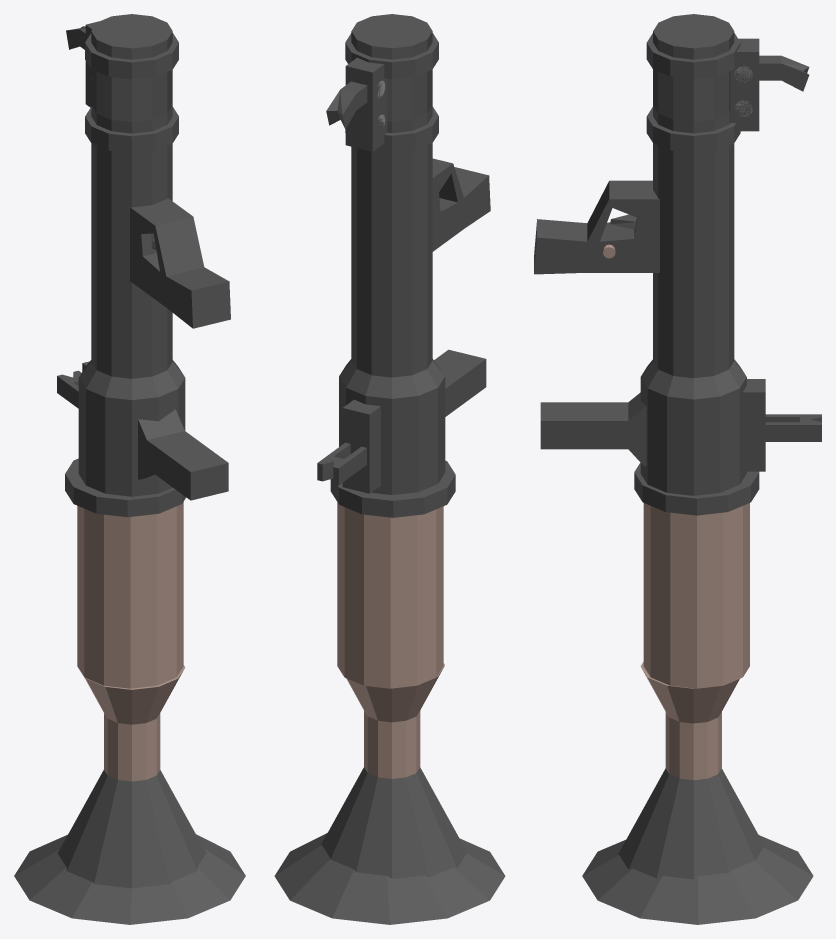
Rendered from rpg.dae.
The picture shows the model from 3 angles, left to right: view 1: azimuth 30°, elevation 25°; view 2: azimuth 150°, elevation 25°; view 3: azimuth 270°, elevation 25°; orthographic projection.
Visible parts, largest first — view 1: model.001; view 2: model.001; view 3: model.001.
Part boxes in pixels (left/top/right/bottom): model.001: left=14, top=14, right=245, bottom=924; model.001: left=274, top=14, right=505, bottom=924; model.001: left=534, top=14, right=821, bottom=924.
Size of the model in its own units: 0.37 by 0.4602 by 1.49.
